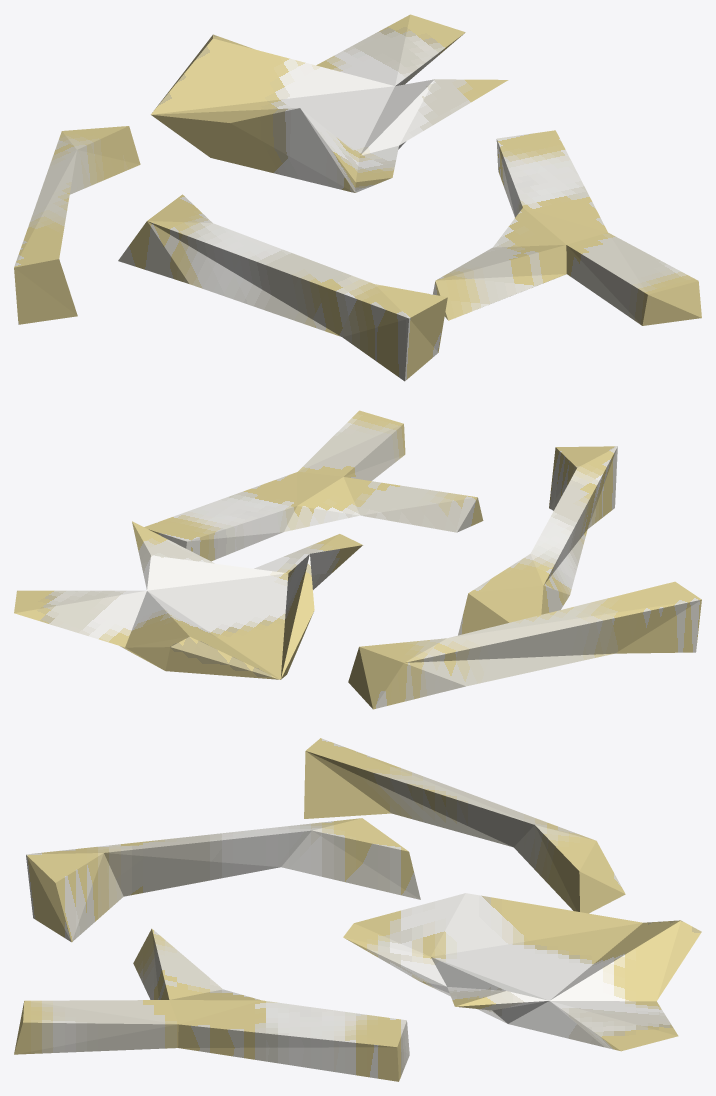
The model's file is BoneScraps.fbx.
3 renders of one model, top to bottom at view 1: azimuth 30°, elevation 25°; view 2: azimuth 150°, elevation 25°; view 3: azimuth 270°, elevation 25°, orthographic. The views are drawn at different scales.
Visible parts, largest first — view 1: BoneScraps; view 2: BoneScraps; view 3: BoneScraps.
Part boxes in pixels (<box>): BoneScraps: <box>14,14,701,381</box>; BoneScraps: <box>14,410,701,709</box>; BoneScraps: <box>14,738,701,1081</box>.
Bounding box in the file's own units: 695 × 92.91 × 699.
